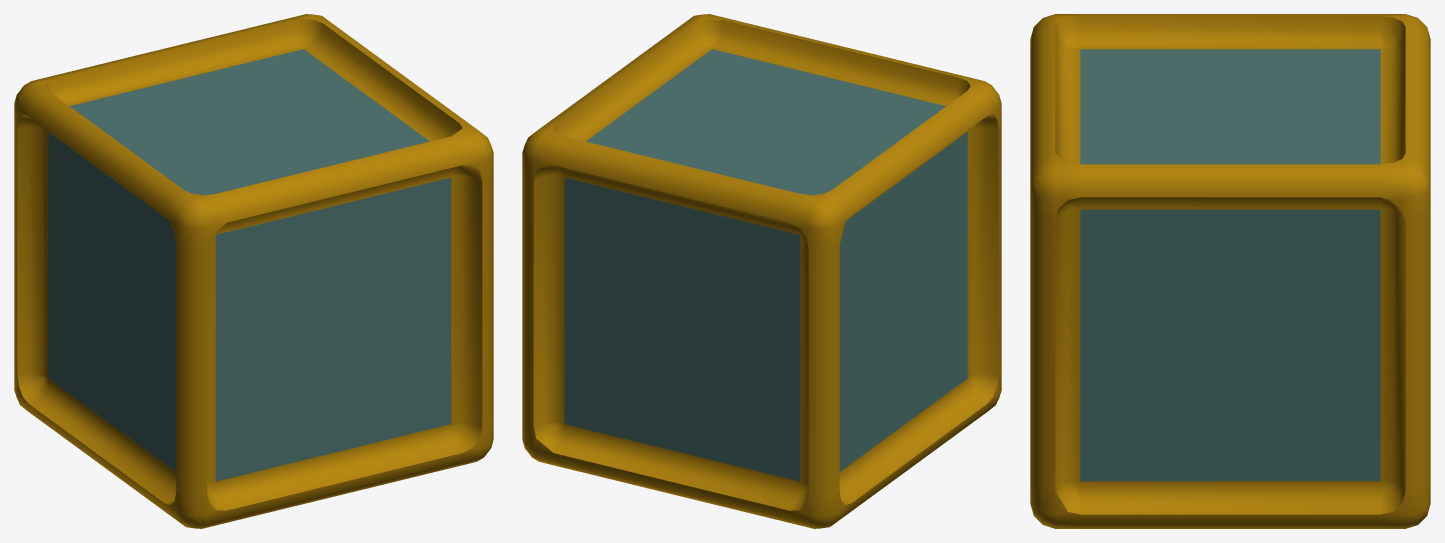
File: Crate_2.fbx
3 renders of one model, left to right at view 1: azimuth 30°, elevation 25°; view 2: azimuth 150°, elevation 25°; view 3: azimuth 270°, elevation 25°, orthographic. The views are drawn at different scales.
Visible parts, largest first — view 1: Crate_02_snaps002:Crate_02_snaps002; view 2: Crate_02_snaps002:Crate_02_snaps002; view 3: Crate_02_snaps002:Crate_02_snaps002.
Part boxes in pixels (left/top/right/bottom): Crate_02_snaps002:Crate_02_snaps002: left=14, top=14, right=493, bottom=528; Crate_02_snaps002:Crate_02_snaps002: left=522, top=14, right=1001, bottom=528; Crate_02_snaps002:Crate_02_snaps002: left=1030, top=14, right=1430, bottom=528.
Bounding box in the file's own units: 1 × 1 × 1.
